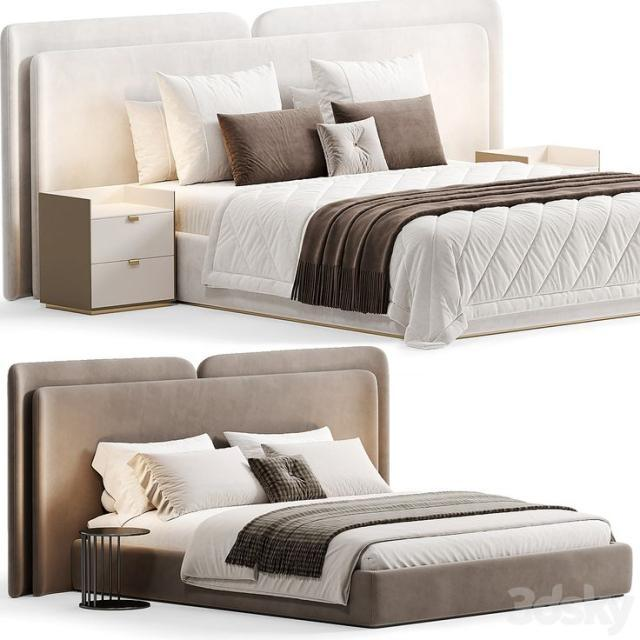obstacle: (1, 0, 638, 349), (7, 346, 632, 628), (37, 188, 176, 314)
